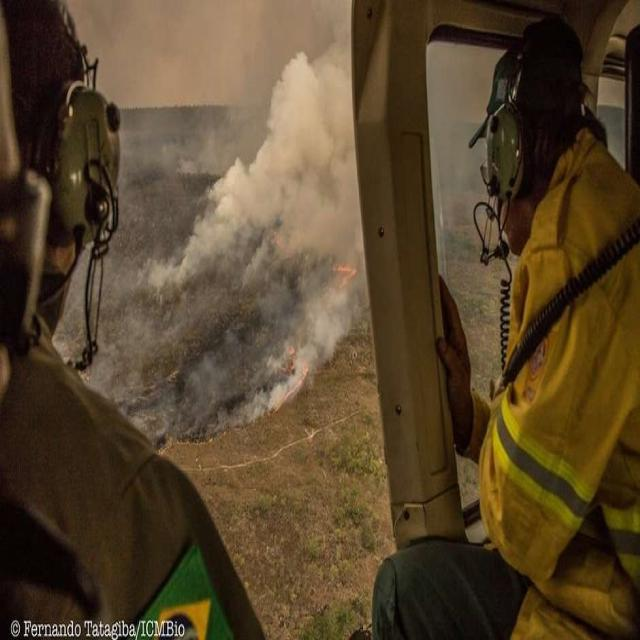Fire: (272, 359, 308, 416), (334, 255, 356, 293), (280, 332, 300, 358)
Smoke: (179, 143, 246, 290), (163, 344, 224, 452), (309, 293, 352, 363), (136, 248, 182, 303), (196, 118, 224, 170), (179, 152, 200, 180)
